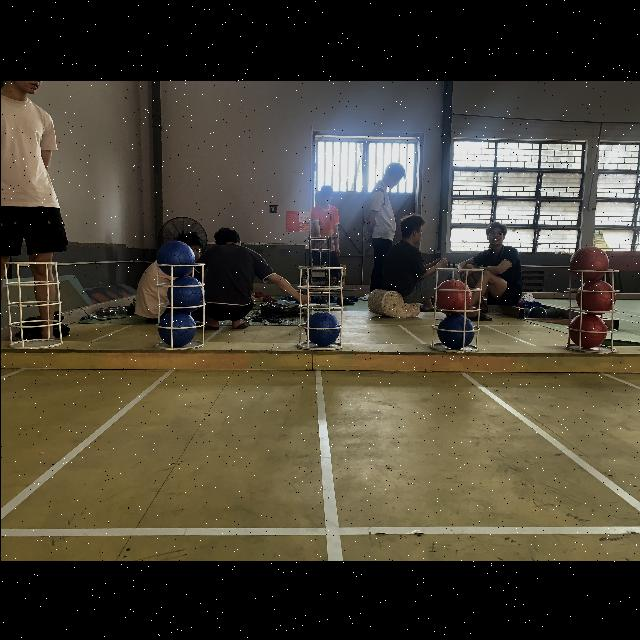B: (158, 309, 196, 346), (166, 275, 204, 311), (436, 312, 472, 348), (156, 240, 194, 274), (305, 310, 339, 346)
R: (575, 279, 615, 313), (568, 245, 608, 279), (435, 278, 471, 312), (570, 312, 604, 348)
